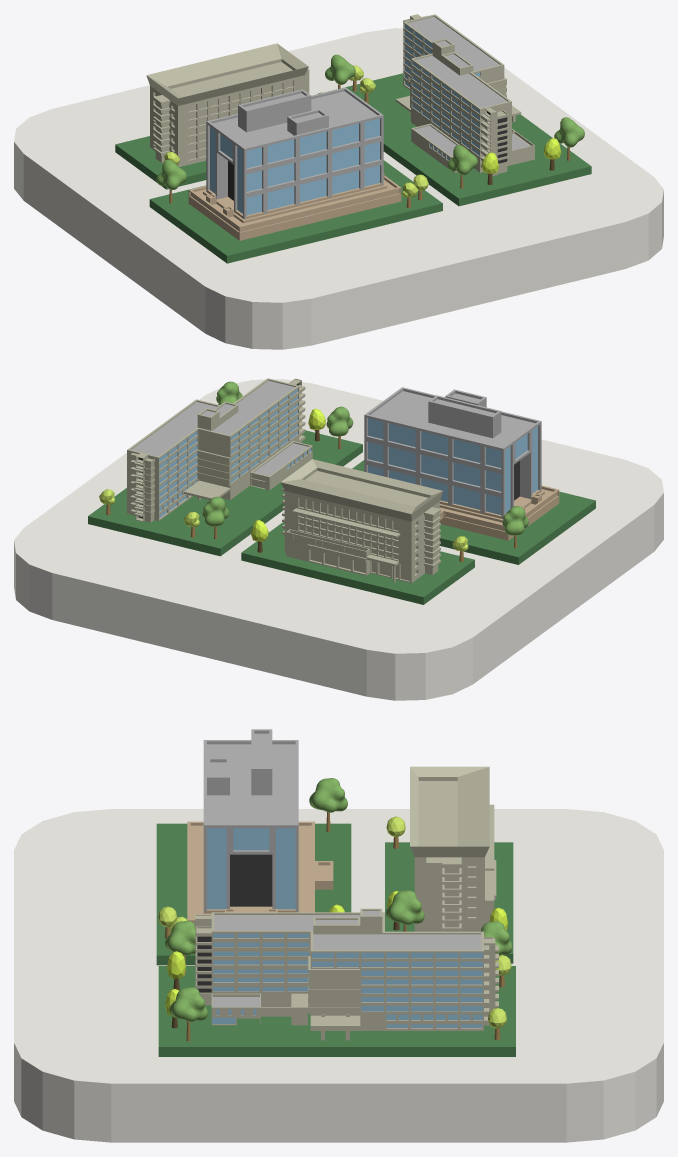
3 renders of one model, top to bottom at view 1: azimuth 30°, elevation 25°; view 2: azimuth 150°, elevation 25°; view 3: azimuth 270°, elevation 25°, orthographic. The views are drawn at different scales.
Visible parts, largest first — view 1: Cube.001, 醫學院2, 醫學院1, 醫學院3, Plane.003, Plane.004, Plane.001, Cylinder.476, Cylinder.458, Cylinder.534, Cylinder.473; view 2: Cube.001, 醫學院2, 醫學院1, 醫學院3, Plane.003, Plane.001, Plane.004, Cylinder.476, Cylinder.473, Cylinder.458; view 3: Cube.001, 醫學院1, 醫學院2, 醫學院3, Plane.003, Plane.004, Plane.001, Cylinder.458, Cylinder.534, Cylinder.466, Cylinder.476, Cylinder.473.
Boxes of the visible parts, x1,y1,x2,y2 form: Cube.001: [14, 28, 663, 349]; 醫學院2: [188, 87, 401, 240]; 醫學院1: [395, 14, 534, 175]; 醫學院3: [146, 43, 309, 166]; Plane.003: [324, 73, 591, 206]; Plane.004: [149, 160, 442, 263]; Plane.001: [115, 136, 206, 189]; Cylinder.476: [447, 145, 477, 188]; Cylinder.458: [156, 159, 186, 203]; Cylinder.534: [554, 117, 584, 160]; Cylinder.473: [325, 54, 355, 89]; Cube.001: [14, 379, 663, 700]; 醫學院2: [364, 387, 559, 540]; 醫學院1: [127, 378, 312, 522]; 醫學院3: [281, 459, 442, 582]; Plane.003: [88, 430, 362, 556]; Plane.001: [241, 522, 474, 604]; Plane.004: [352, 460, 595, 564]; Cylinder.476: [326, 406, 353, 449]; Cylinder.473: [202, 496, 228, 539]; Cylinder.458: [502, 506, 528, 548]; Cube.001: [14, 809, 663, 1142]; 醫學院1: [195, 908, 498, 1040]; 醫學院2: [187, 729, 333, 925]; 醫學院3: [410, 766, 496, 931]; Plane.003: [158, 966, 515, 1056]; Plane.004: [156, 823, 351, 965]; Plane.001: [385, 842, 513, 963]; Cylinder.458: [309, 778, 347, 831]; Cylinder.534: [169, 987, 207, 1041]; Cylinder.466: [386, 890, 424, 931]; Cylinder.476: [165, 921, 195, 974]; Cylinder.473: [481, 921, 512, 954].
Bounding box in the file's own units: 20 × 6.72 × 20.
